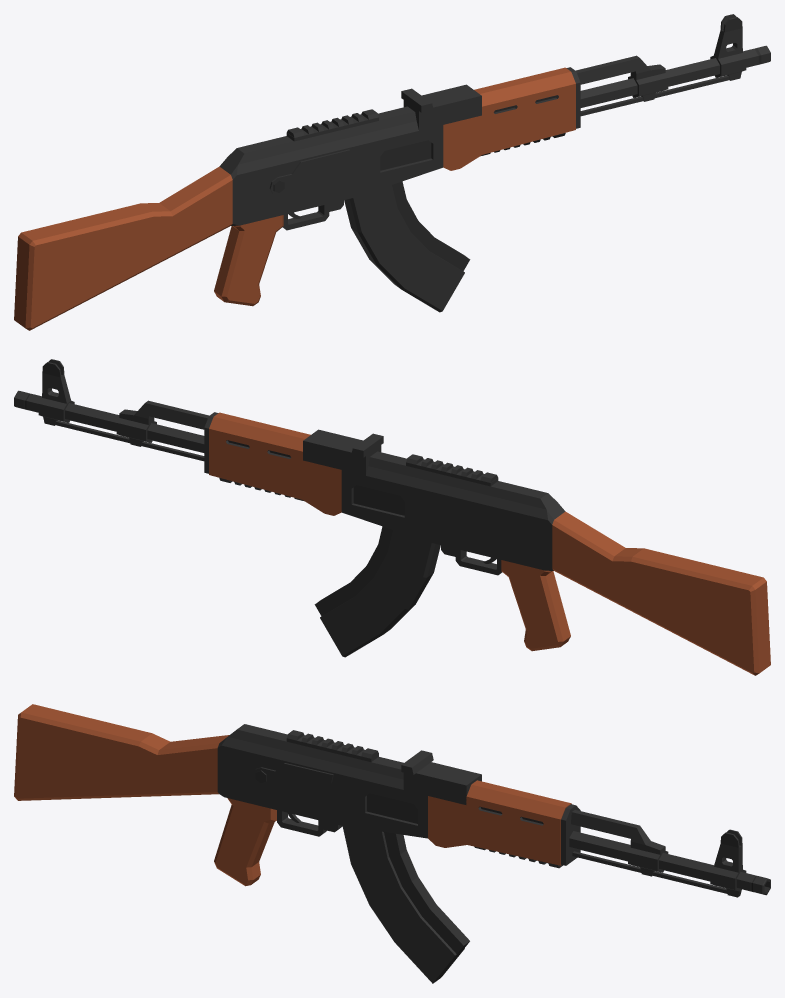
File: SM_Props_Interior_Shop_Gun_MachineGun.fbx
3 renders of one model, top to bottom at view 1: azimuth 30°, elevation 25°; view 2: azimuth 150°, elevation 25°; view 3: azimuth 330°, elevation 25°, orthographic.
Visible parts, largest first — view 1: SM_Props_Interior_Shop_Gun_MachineGun; view 2: SM_Props_Interior_Shop_Gun_MachineGun; view 3: SM_Props_Interior_Shop_Gun_MachineGun.
Part boxes in pixels (x1,y1,x2,y2): SM_Props_Interior_Shop_Gun_MachineGun: (14,14,770,330); SM_Props_Interior_Shop_Gun_MachineGun: (14,359,770,675); SM_Props_Interior_Shop_Gun_MachineGun: (14,704,770,983).
Bounding box in the file's own units: 95.4 × 26.98 × 4.46.
